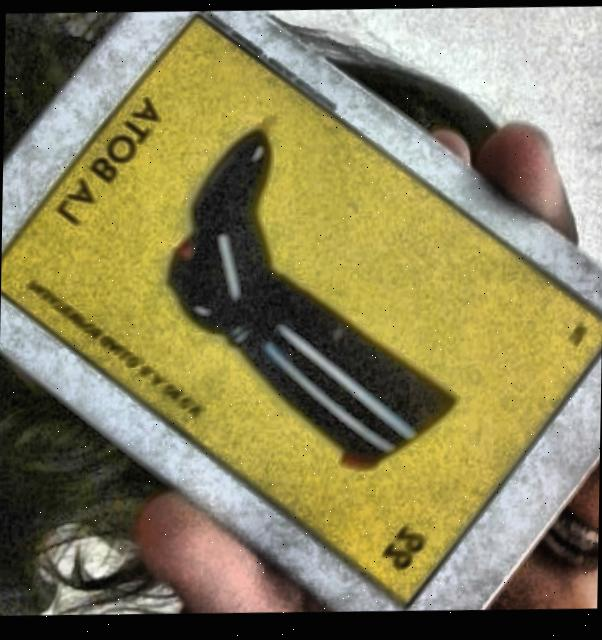La Bota: (1, 20, 602, 612)
